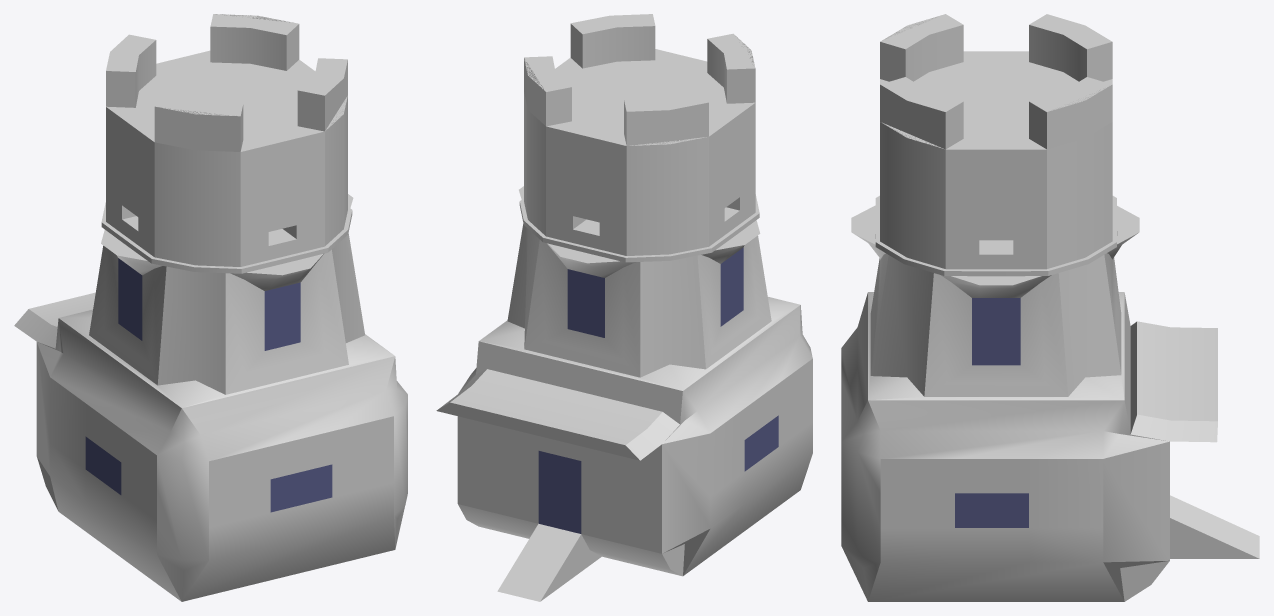
The picture shows the model from 3 angles, left to right: view 1: azimuth 30°, elevation 25°; view 2: azimuth 150°, elevation 25°; view 3: azimuth 270°, elevation 25°; orthographic projection. The views are drawn at different scales.
Parts seen in each view (by area): view 1: Cube.001; view 2: Cube.001; view 3: Cube.001.
Part boxes in pixels (x1,y1,x2,y2): Cube.001: (14,14,407,601); Cube.001: (436,14,812,601); Cube.001: (841,14,1259,601).
Size of the model in its own units: 173 by 308 by 241.
